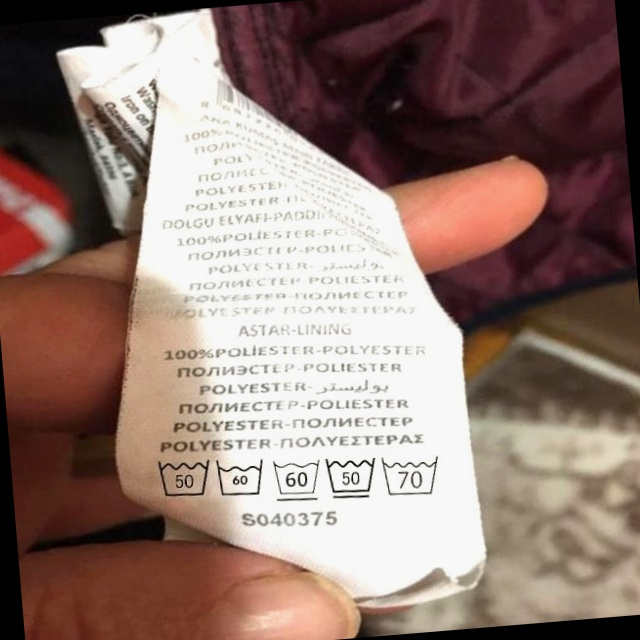50C: (150, 449, 216, 504), (322, 451, 382, 504)
60C: (270, 452, 327, 504), (213, 453, 270, 503)
70C: (380, 450, 448, 500)
